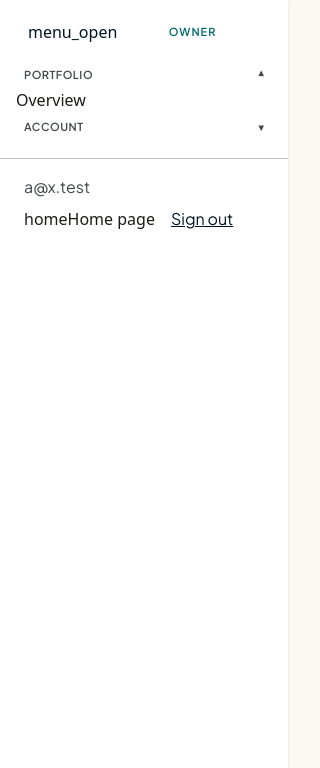
Scenario: DashboardSidebar › links home, opens the active group and toggles others
Expected: the link "Overview" is shown, [16, 89, 86, 111]
Expected: the link "My account" is not shown
Click the button "Account ▾" at (144, 127), box [16, 116, 272, 138]
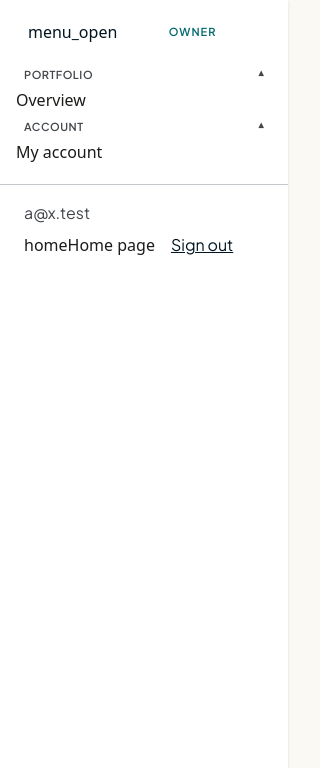
Expected: the link "My account" is shown, [16, 141, 102, 163]
